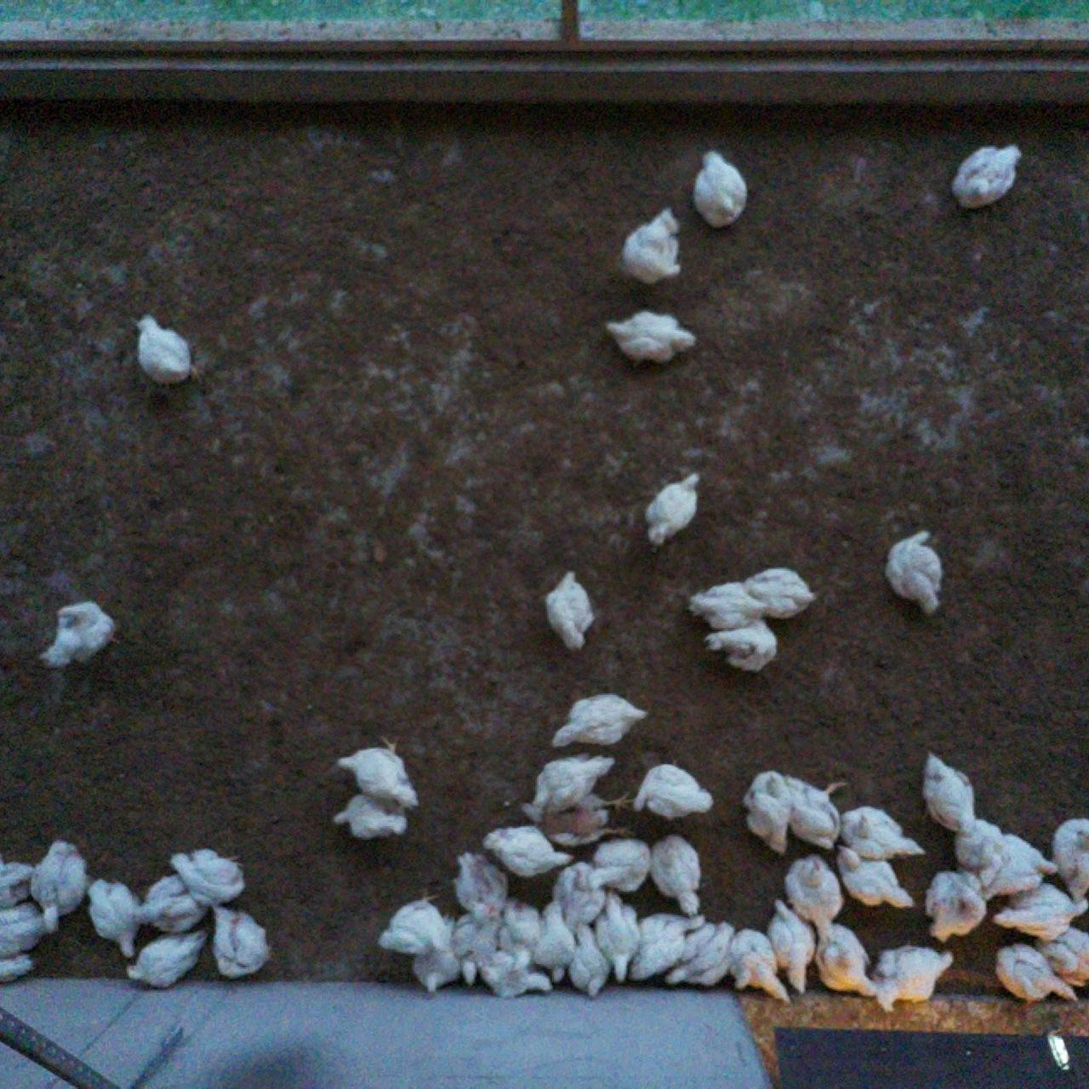chicken: (326, 731, 426, 813), (599, 302, 703, 375), (877, 522, 951, 623), (35, 594, 123, 677), (610, 202, 688, 294), (514, 791, 639, 848), (869, 935, 957, 1015), (547, 687, 653, 751), (991, 937, 1082, 1011), (126, 306, 203, 393), (989, 879, 1089, 945), (645, 827, 713, 923), (835, 799, 929, 868), (831, 840, 916, 916), (626, 908, 707, 987), (121, 924, 211, 995), (913, 745, 980, 840), (27, 838, 92, 935), (777, 853, 846, 942), (946, 140, 1027, 215), (811, 912, 878, 1002), (687, 146, 754, 236), (538, 565, 602, 659), (916, 864, 991, 944), (207, 898, 281, 979), (764, 893, 820, 999), (628, 760, 719, 825), (479, 822, 576, 882), (376, 884, 453, 959), (532, 750, 623, 813), (83, 874, 145, 966), (783, 772, 851, 855), (662, 918, 737, 993), (727, 923, 795, 1005), (738, 764, 797, 858), (640, 469, 705, 551), (327, 786, 416, 845), (682, 575, 771, 634), (166, 842, 248, 906), (699, 614, 783, 676), (590, 888, 644, 984), (741, 564, 822, 627), (130, 872, 207, 936), (985, 830, 1060, 891), (446, 903, 501, 986), (479, 938, 552, 1000), (546, 858, 608, 930), (407, 915, 460, 998), (449, 847, 513, 914), (563, 918, 614, 1001), (581, 838, 655, 894), (1031, 923, 1089, 990), (1048, 811, 1089, 905), (531, 900, 575, 983), (950, 817, 1007, 879), (0, 902, 46, 962), (501, 889, 543, 945), (0, 851, 37, 910)
